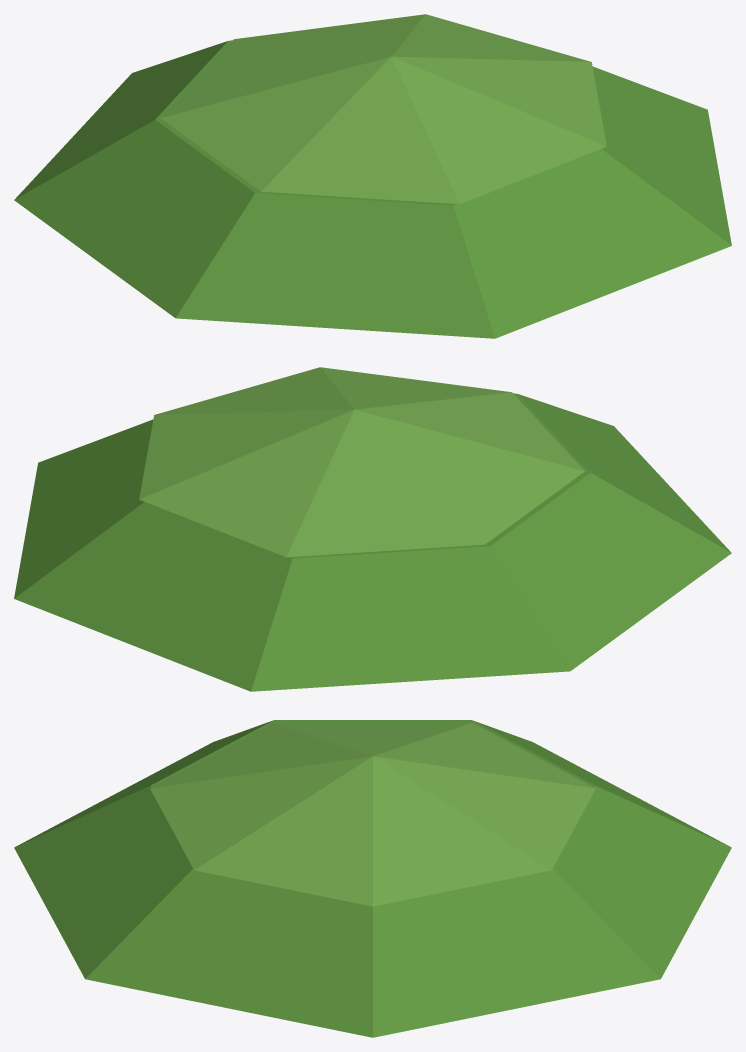
The model's file is hill.glb.
3 renders of one model, top to bottom at view 1: azimuth 30°, elevation 25°; view 2: azimuth 150°, elevation 25°; view 3: azimuth 270°, elevation 25°, orthographic.
Parts seen in each view (by area): view 1: mound, crest; view 2: mound, crest; view 3: mound, crest.
Part boxes in pixels (bbox=[...]): mound: bbox=[14, 40, 731, 338]; crest: bbox=[161, 14, 606, 204]; mound: bbox=[14, 393, 731, 691]; crest: bbox=[139, 367, 584, 557]; mound: bbox=[14, 720, 731, 1037]; crest: bbox=[150, 723, 595, 906].
Size of the model in its own units: 0.5908 by 0.12 by 0.606.
